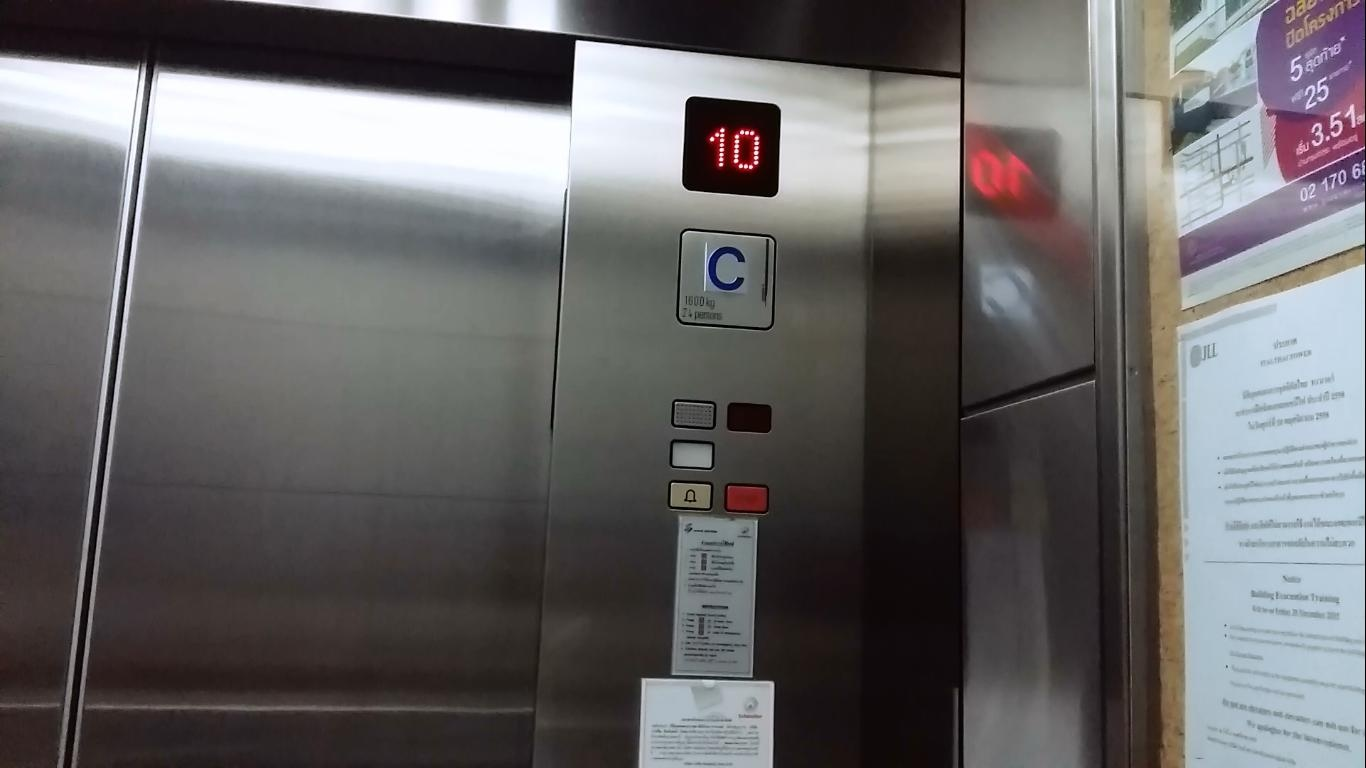alarm: (666, 477, 715, 512)
empty: (725, 399, 774, 434), (668, 436, 717, 471), (723, 480, 772, 515)
led: (680, 93, 783, 199)
speaker: (669, 395, 718, 430)
